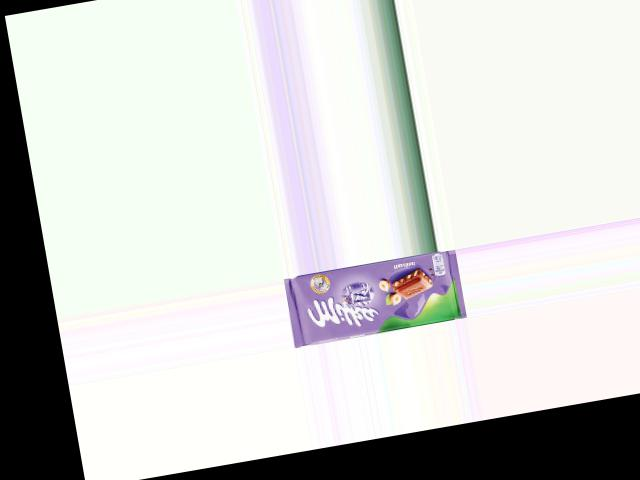chocolate: (283, 247, 467, 347)
